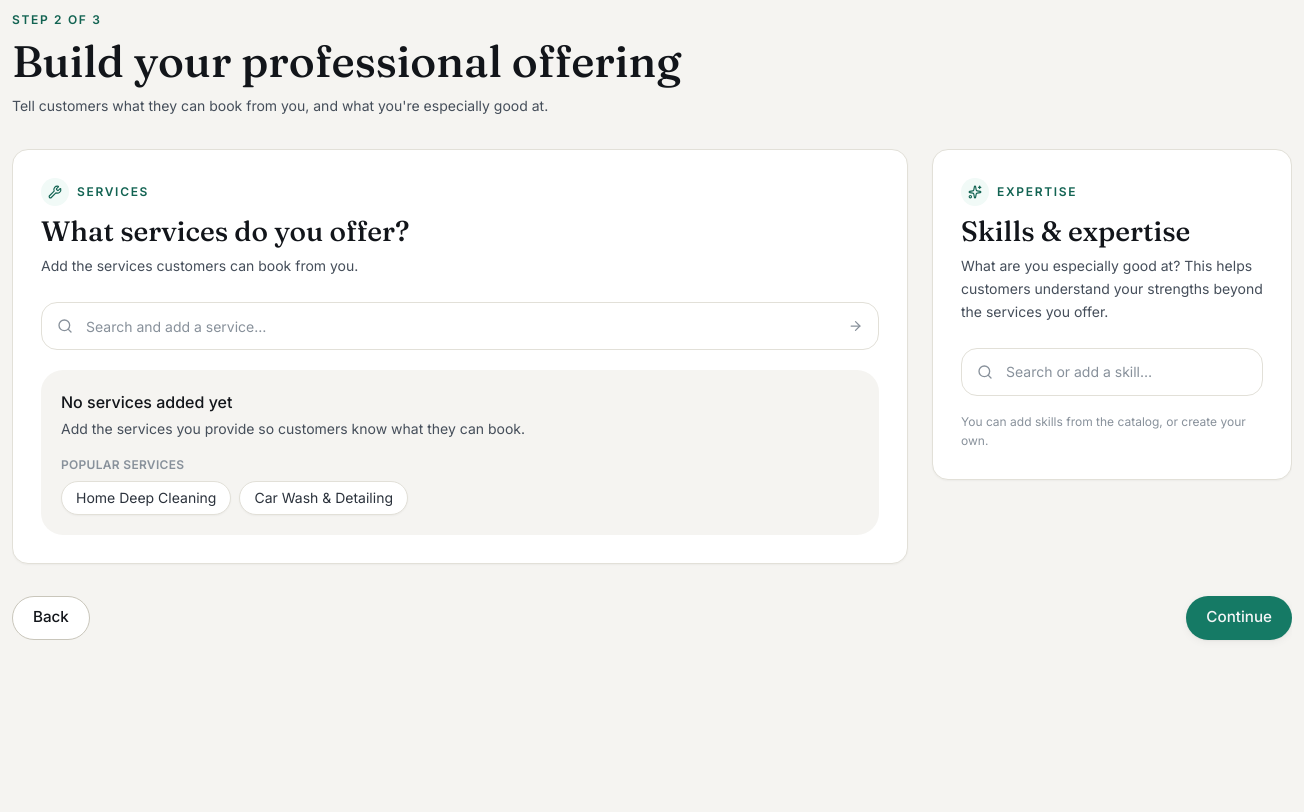
Test case: StepSkillsServices — services section › selecting a service from search results adds it as a card, expanded and ready to configure
Click the dropdown named "Search services".
click(460, 326)  # box [41, 302, 879, 350]
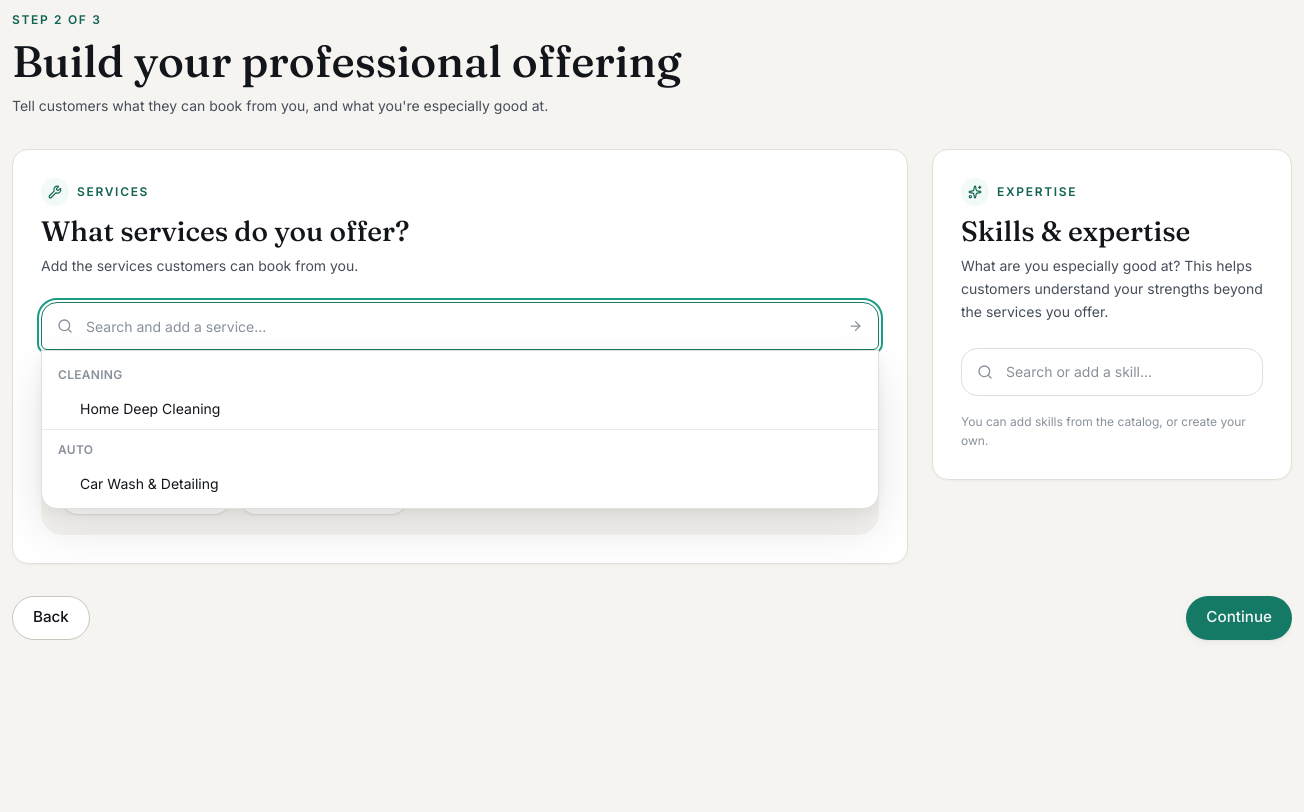
Click the option "Home Deep Cleaning".
click(150, 409)  # box [80, 400, 220, 417]
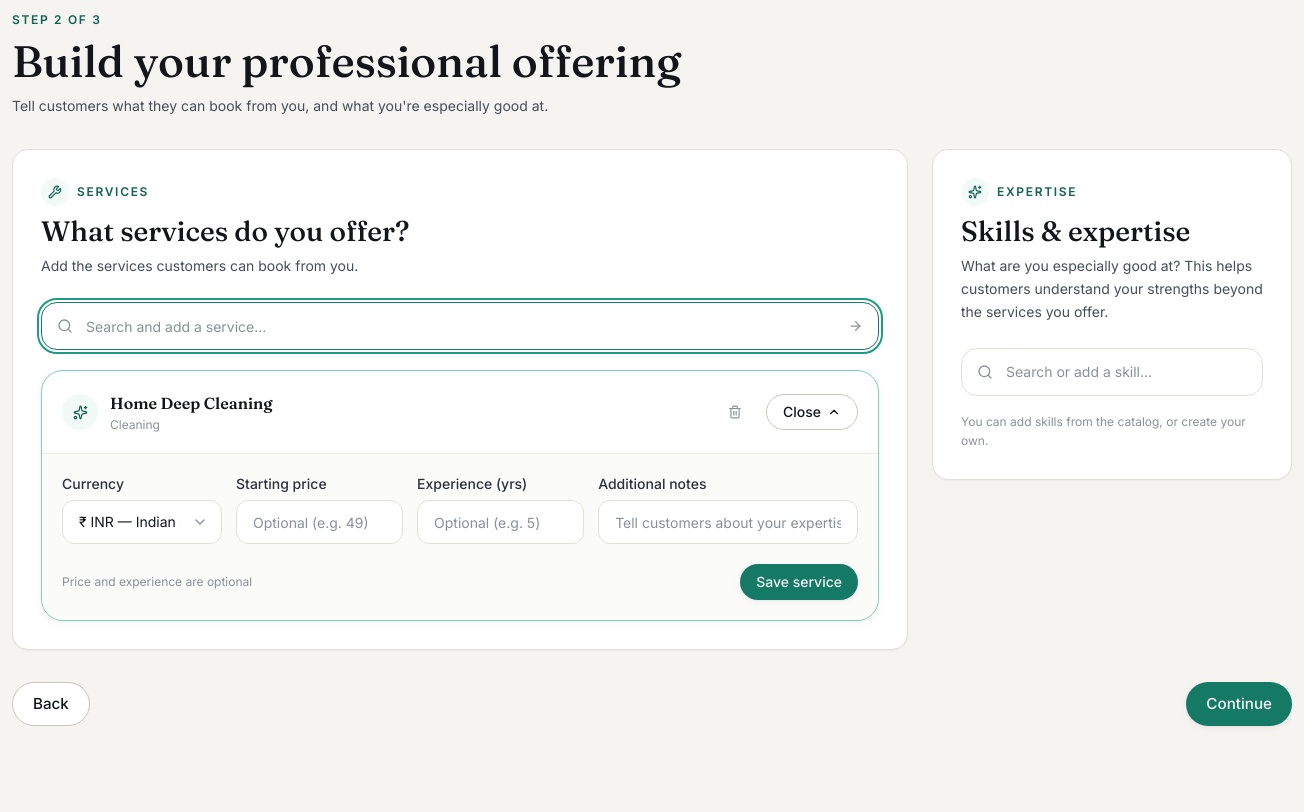
Expected: the text "Cleaning" is shown, [110, 417, 160, 432]
Expected: the text "No services added yet" is gone
Expected: the button "Save service" is shown, [740, 564, 858, 600]
